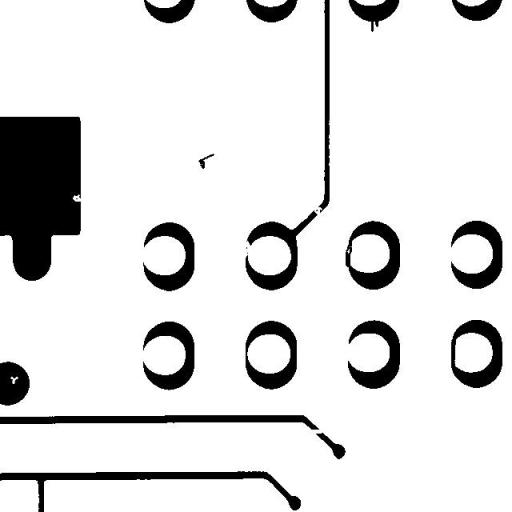copper: (190, 146, 222, 176)
mousebite: (65, 186, 89, 209)
open: (234, 232, 258, 266), (306, 194, 330, 224), (301, 422, 330, 440)
pin-hole: (2, 369, 26, 391)
short: (338, 226, 362, 274), (443, 328, 464, 374)
spur: (363, 10, 386, 39)
